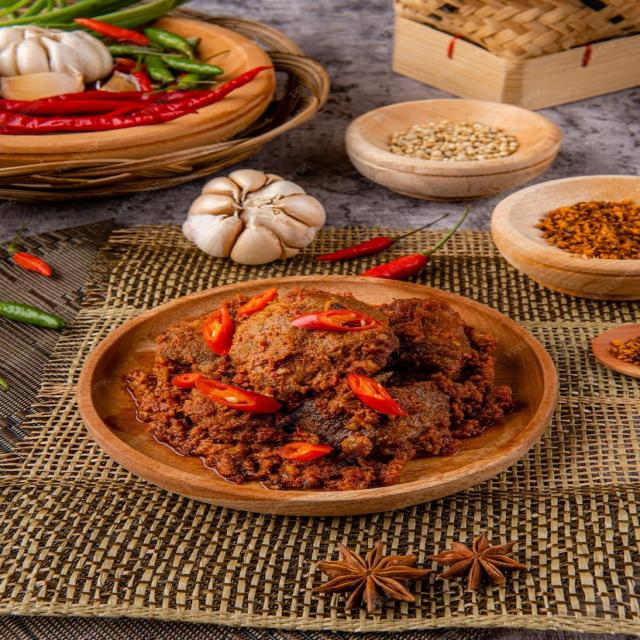Rendang: (107, 290, 528, 487)
